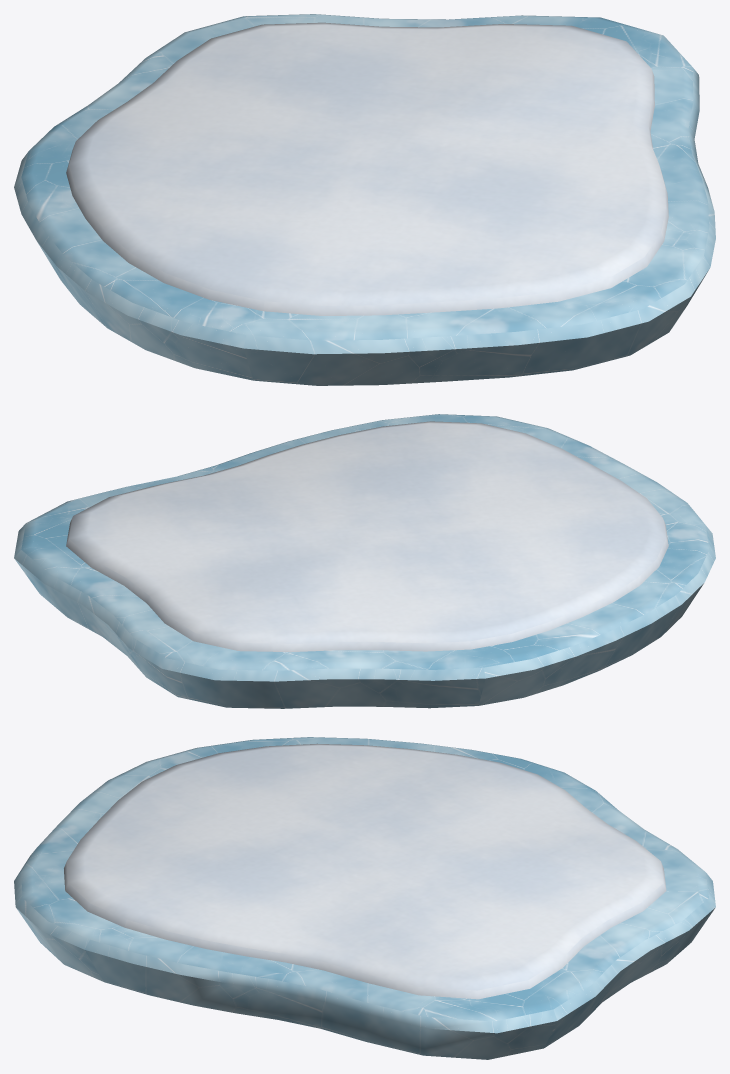
The model's file is SM_IceFloe_B.fbx.
3 renders of one model, top to bottom at view 1: azimuth 30°, elevation 25°; view 2: azimuth 150°, elevation 25°; view 3: azimuth 270°, elevation 25°, orthographic. The views are drawn at different scales.
Parts seen in each view (by area): view 1: SM_IceFloe_B; view 2: SM_IceFloe_B; view 3: SM_IceFloe_B.
Boxes of the visible parts, x1,y1,x2,y2 form: SM_IceFloe_B: [14, 14, 715, 385]; SM_IceFloe_B: [14, 414, 715, 708]; SM_IceFloe_B: [14, 737, 715, 1059].
Size of what is drawn, in the model's own units: 512 by 501 by 54.
